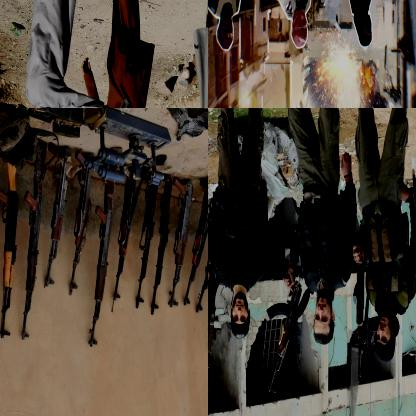rifle: (20, 140, 49, 340), (265, 273, 304, 395), (87, 180, 114, 349), (41, 143, 72, 288), (111, 163, 138, 314), (68, 152, 95, 298), (166, 176, 192, 308), (0, 160, 19, 340), (150, 173, 174, 315), (133, 173, 157, 310), (184, 176, 207, 310), (353, 244, 372, 386), (193, 180, 207, 314), (208, 267, 218, 399), (84, 97, 157, 107)
